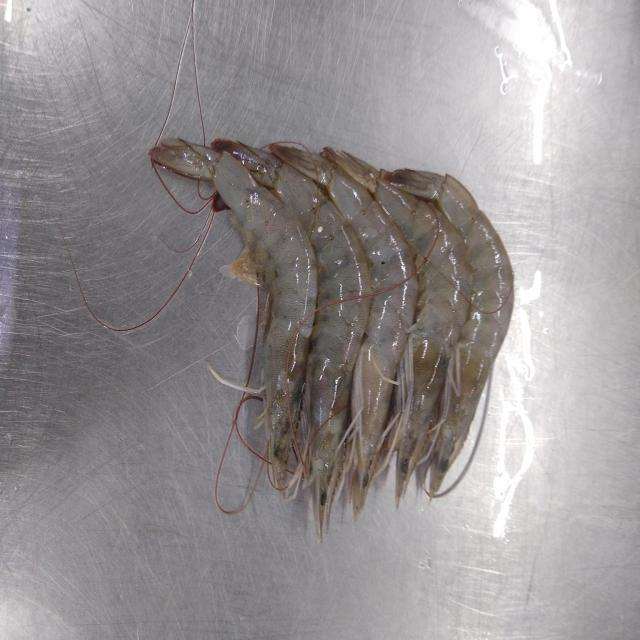shrimp: (211, 138, 371, 540), (150, 138, 318, 490), (320, 157, 418, 518), (375, 180, 472, 505), (429, 175, 514, 497)
